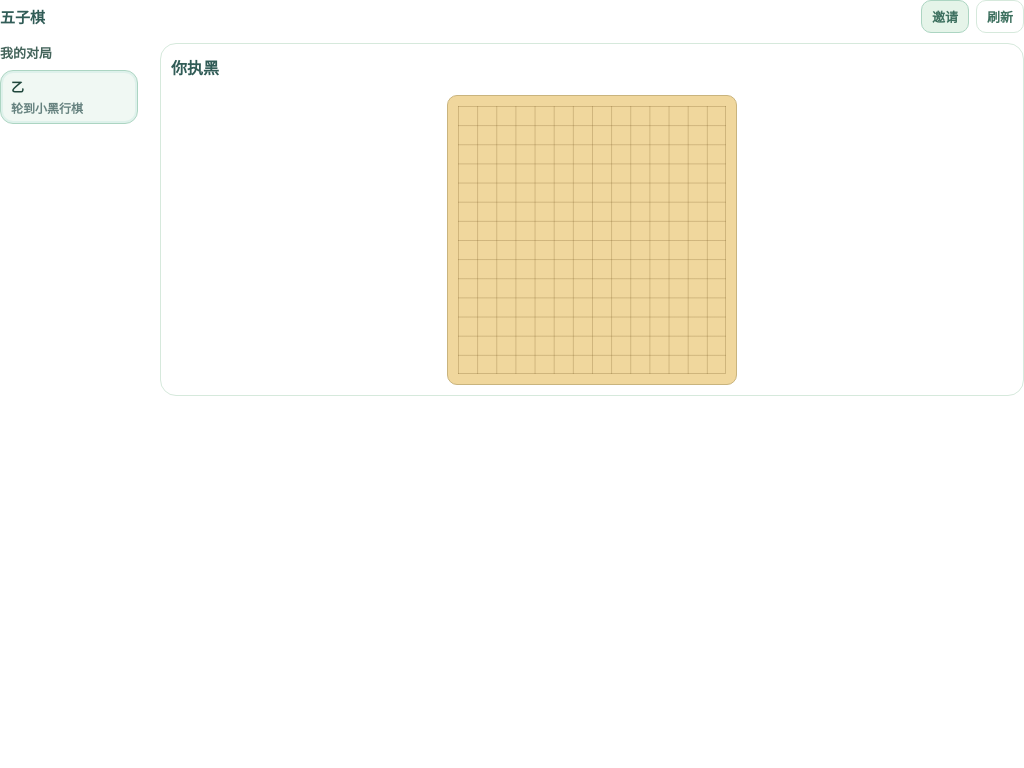
Test: GomokuPanel 边界条件 › 候选与我有进行中对局时按钮禁用并标注
The width and height of the screenshot is (1024, 768).
What coordinates should you click on to do the following:
click the button "邀请"
I would click on:
 (945, 16)
Its box is [921, 0, 969, 33].
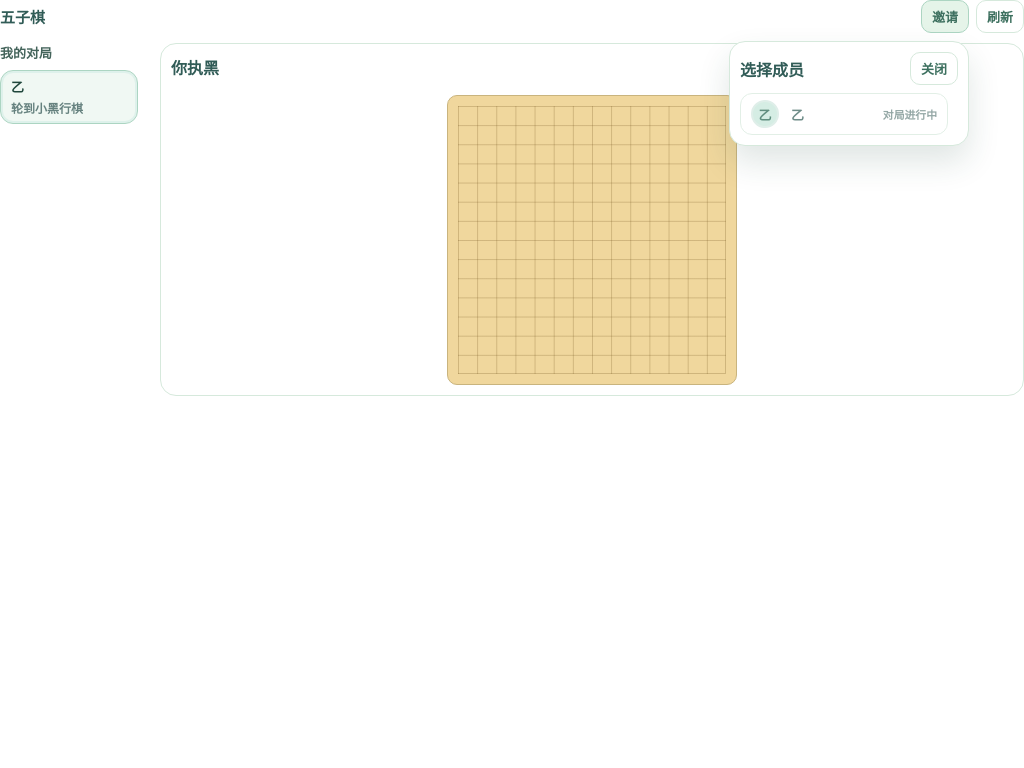
Expected: the button "乙 乙 对局进行中" is disabled, [740, 93, 948, 135]
Expected: the button "乙 乙 对局进行中" is shown, [740, 93, 948, 135]
